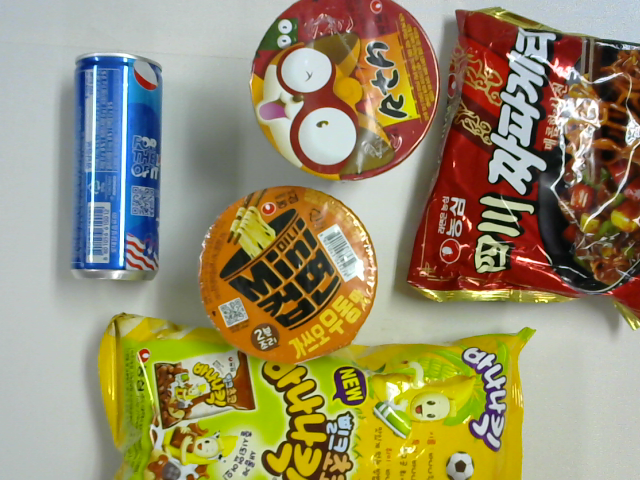Banana_Kick: (96, 313, 536, 480)
Pepsi_Cola_Can_250ml: (71, 53, 162, 283)
Raccoon: (249, 1, 442, 182)
Sichuan_Chapaghetti: (406, 6, 640, 331)
Udongmini: (200, 183, 380, 366)
